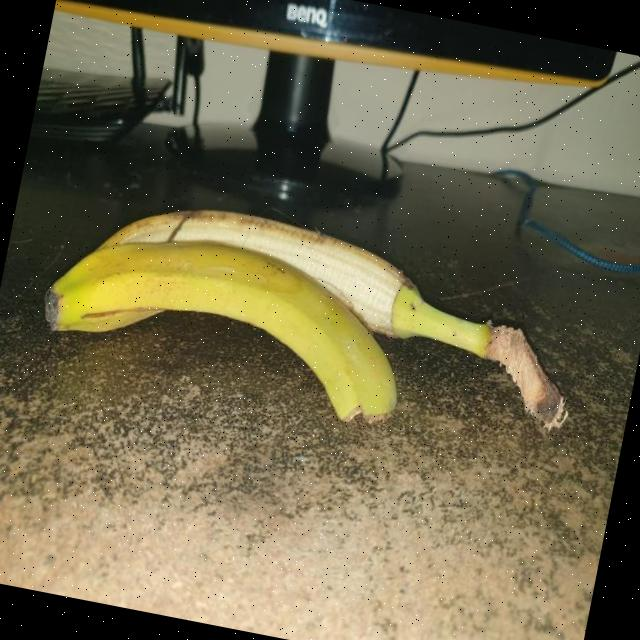banana-peel: (75, 184, 594, 436), (32, 209, 420, 432)
